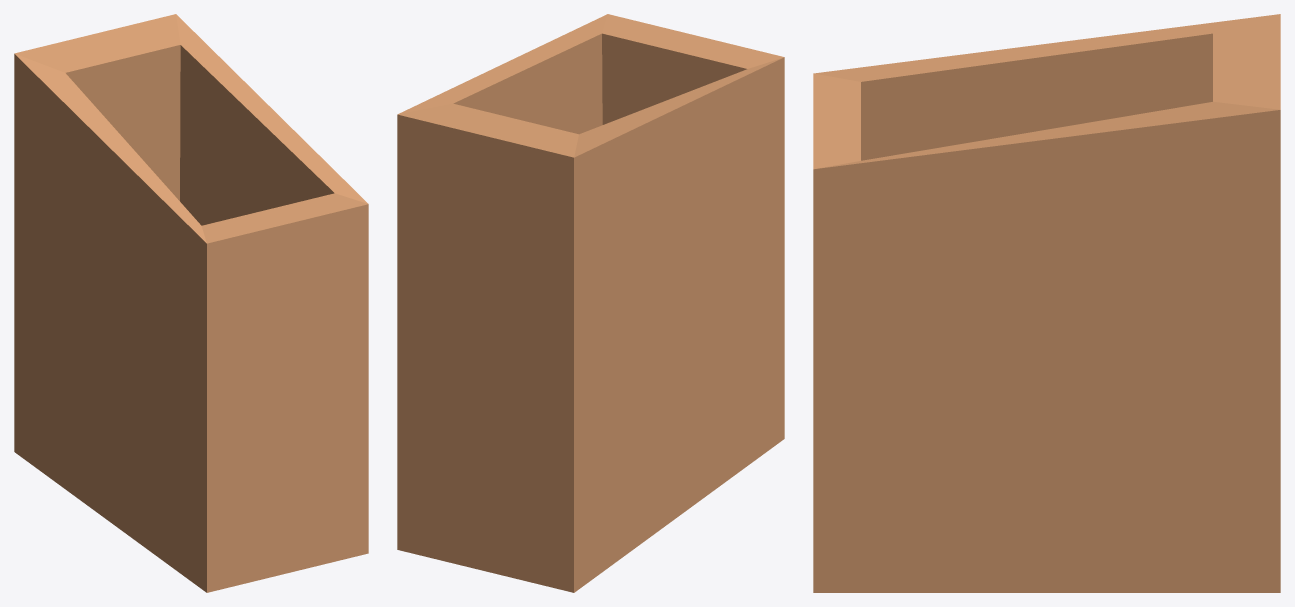
File: playerBox3.fbx
3 views of the same model, side by side, from view 1: azimuth 30°, elevation 25°; view 2: azimuth 150°, elevation 25°; view 3: azimuth 270°, elevation 25° (orthographic). The views are drawn at different scales.
Visible parts, largest first — view 1: Cube; view 2: Cube; view 3: Cube.
Boxes of the visible parts, x1=… form: Cube: x1=14, y1=14, x2=368, y2=592; Cube: x1=397, y1=14, x2=784, y2=592; Cube: x1=813, y1=14, x2=1280, y2=592.
Bounding box in the file's own units: 97.01 × 228 × 200.
